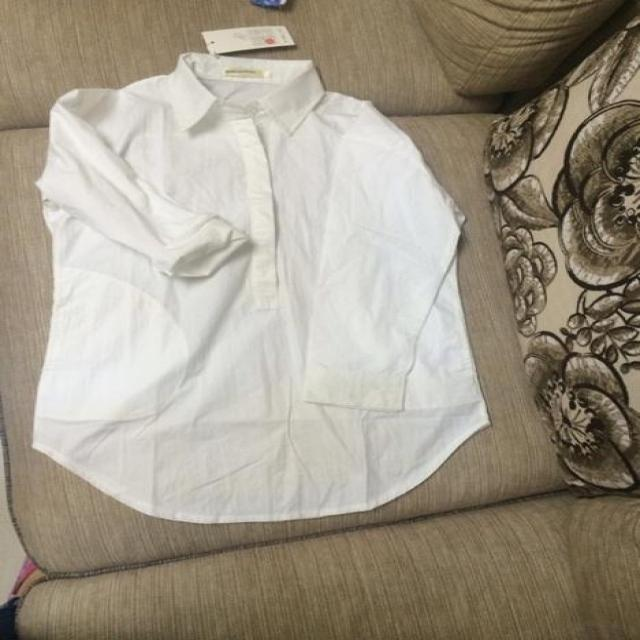long sleeve top: (33, 52, 493, 525)
